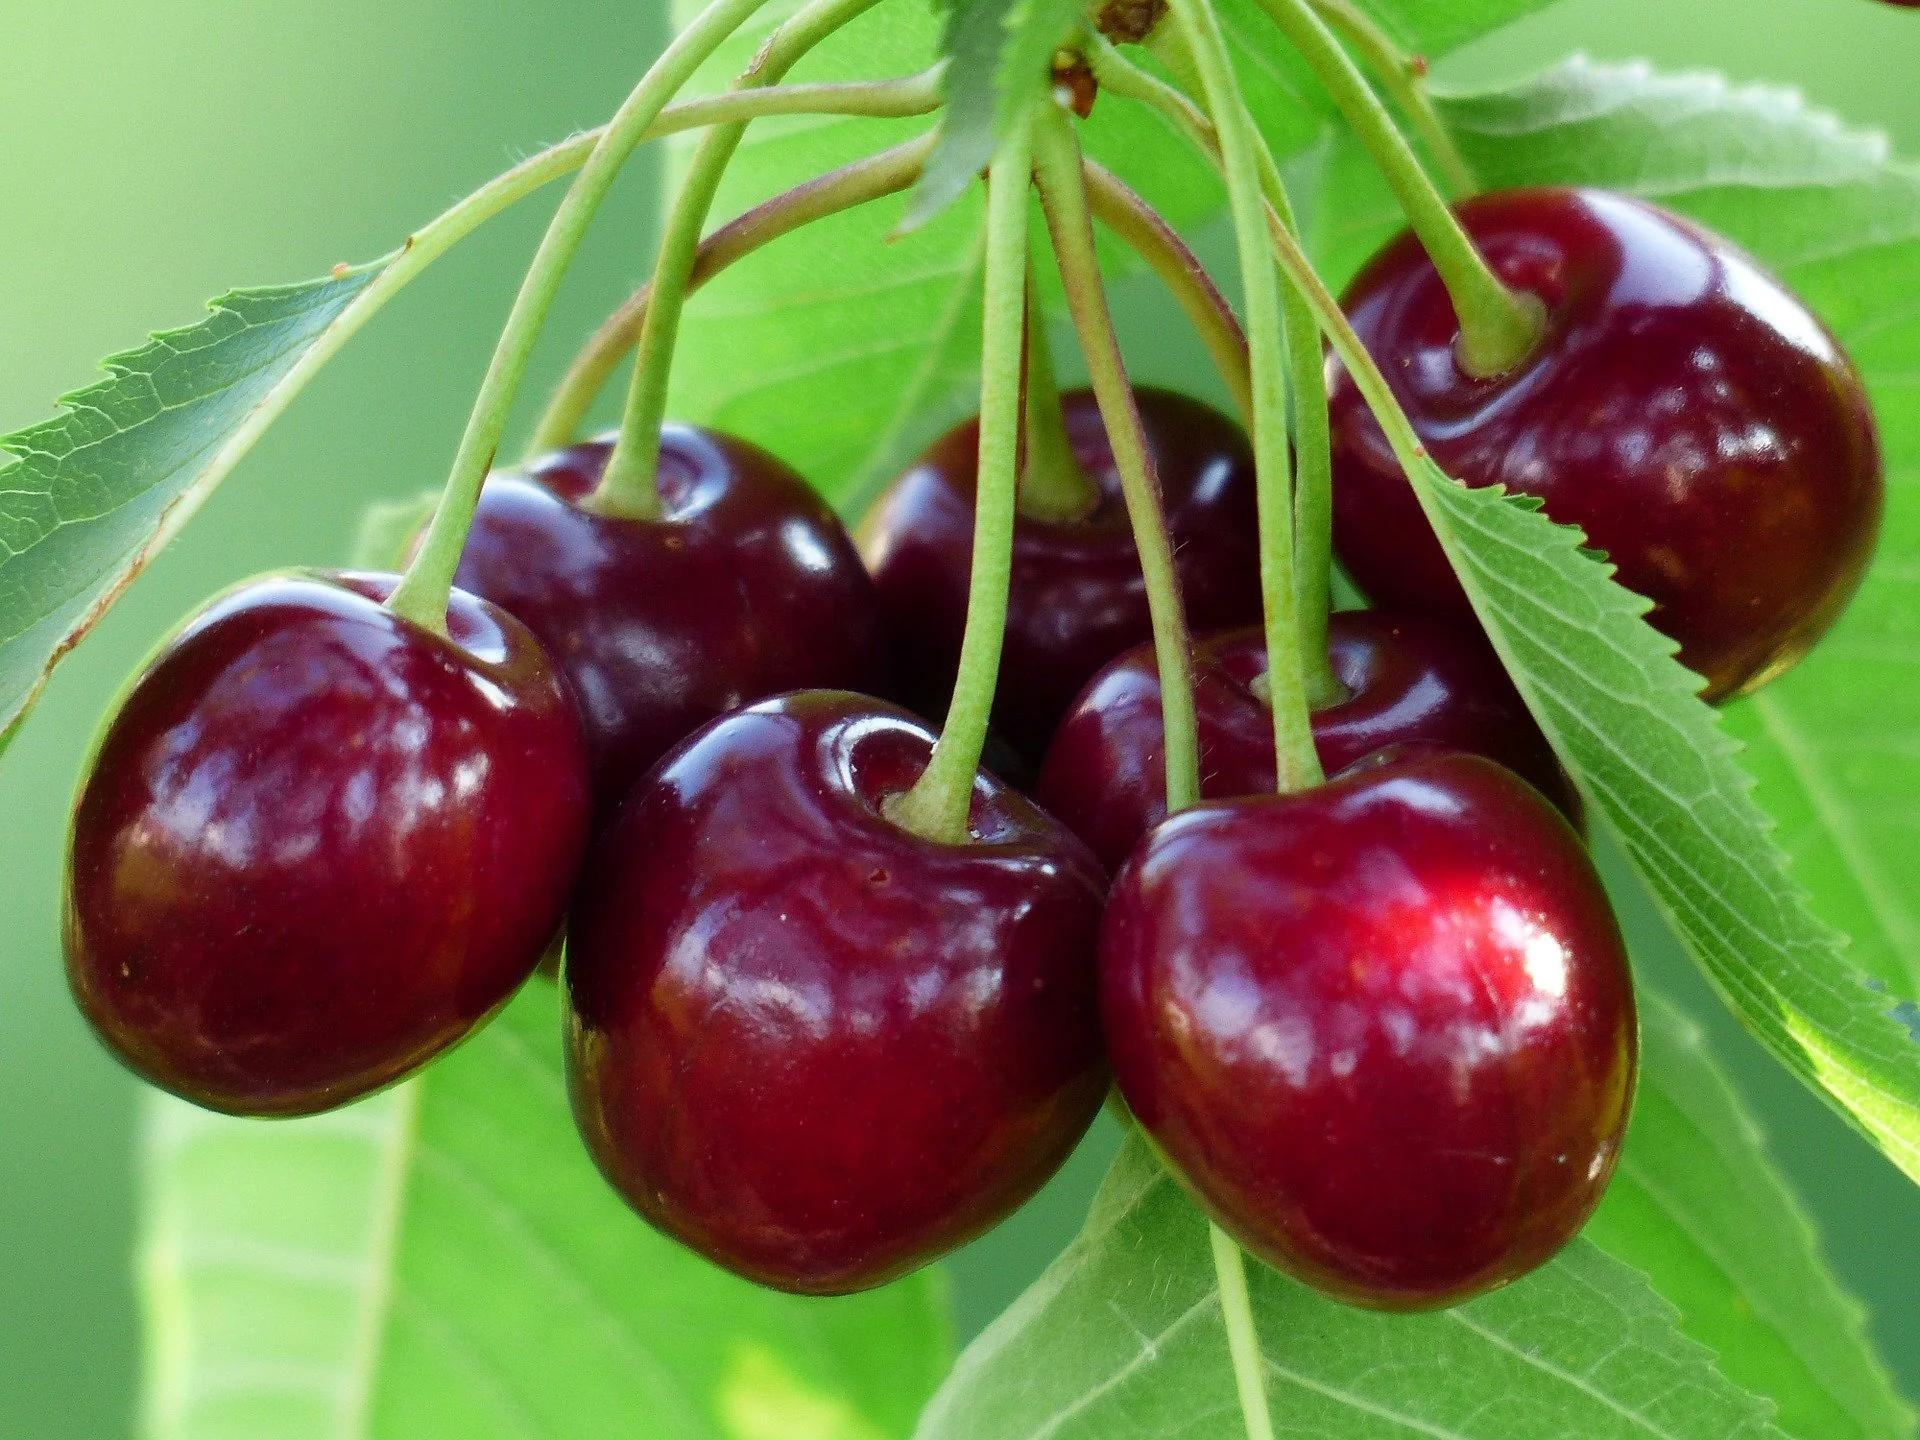apple: (561, 687, 1113, 1296), (1098, 744, 1640, 1313), (1321, 183, 1885, 708), (59, 567, 593, 1119), (398, 419, 884, 791), (853, 383, 1262, 732), (1037, 608, 1568, 871)
apricot: (559, 685, 1113, 1296), (1096, 743, 1640, 1313), (1320, 182, 1884, 708), (59, 567, 591, 1119), (399, 417, 884, 787), (853, 381, 1262, 729), (1039, 605, 1547, 868)
cherry: (1040, 150, 1640, 1313), (402, 100, 939, 790), (561, 687, 1113, 1296), (1098, 743, 1640, 1313), (1321, 182, 1885, 708), (60, 567, 591, 1119), (398, 419, 887, 790), (854, 384, 1261, 731), (1037, 607, 1528, 867)
grapes: (561, 687, 1111, 1296), (1096, 743, 1639, 1313), (1321, 182, 1884, 708), (60, 567, 591, 1119), (401, 419, 884, 796), (853, 383, 1262, 738), (1039, 607, 1553, 873)
melon: (1321, 182, 1884, 708), (60, 566, 591, 1119)
